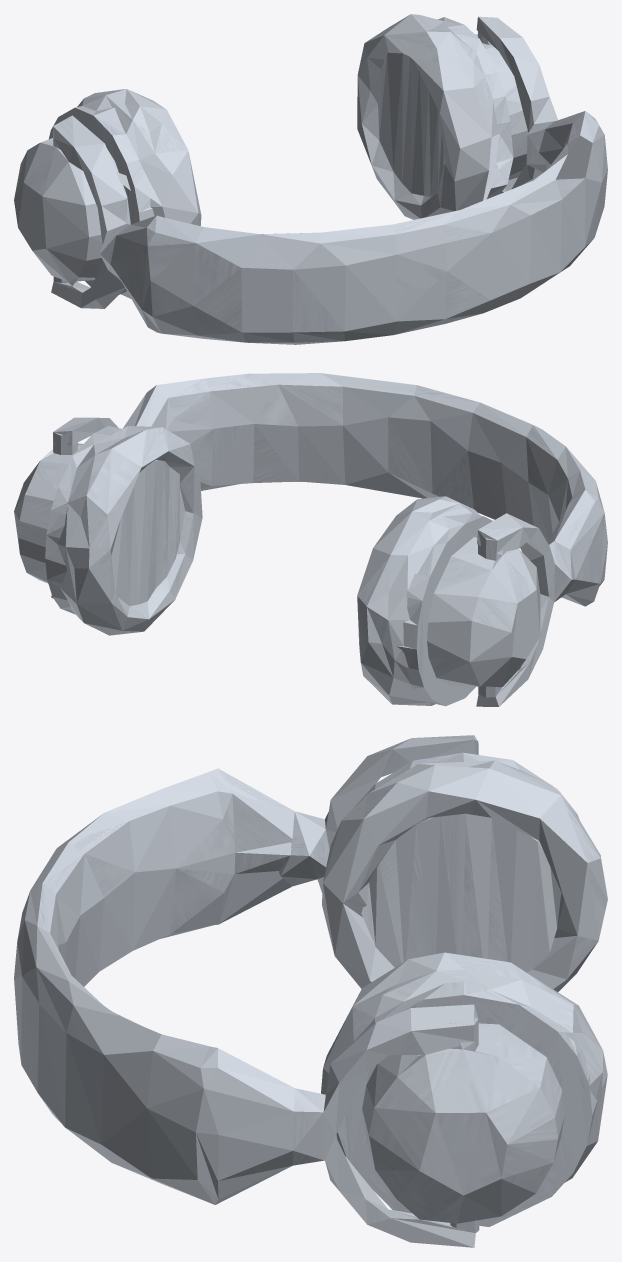
The model's file is model_align.obj.
The picture shows the model from 3 angles, top to bottom: view 1: azimuth 30°, elevation 25°; view 2: azimuth 150°, elevation 25°; view 3: azimuth 270°, elevation 25°; orthographic projection. The views are drawn at different scales.
Bounding box in the file's own units: 0.1552 × 0.058 × 0.1201.
5 materials, 5 textured.
